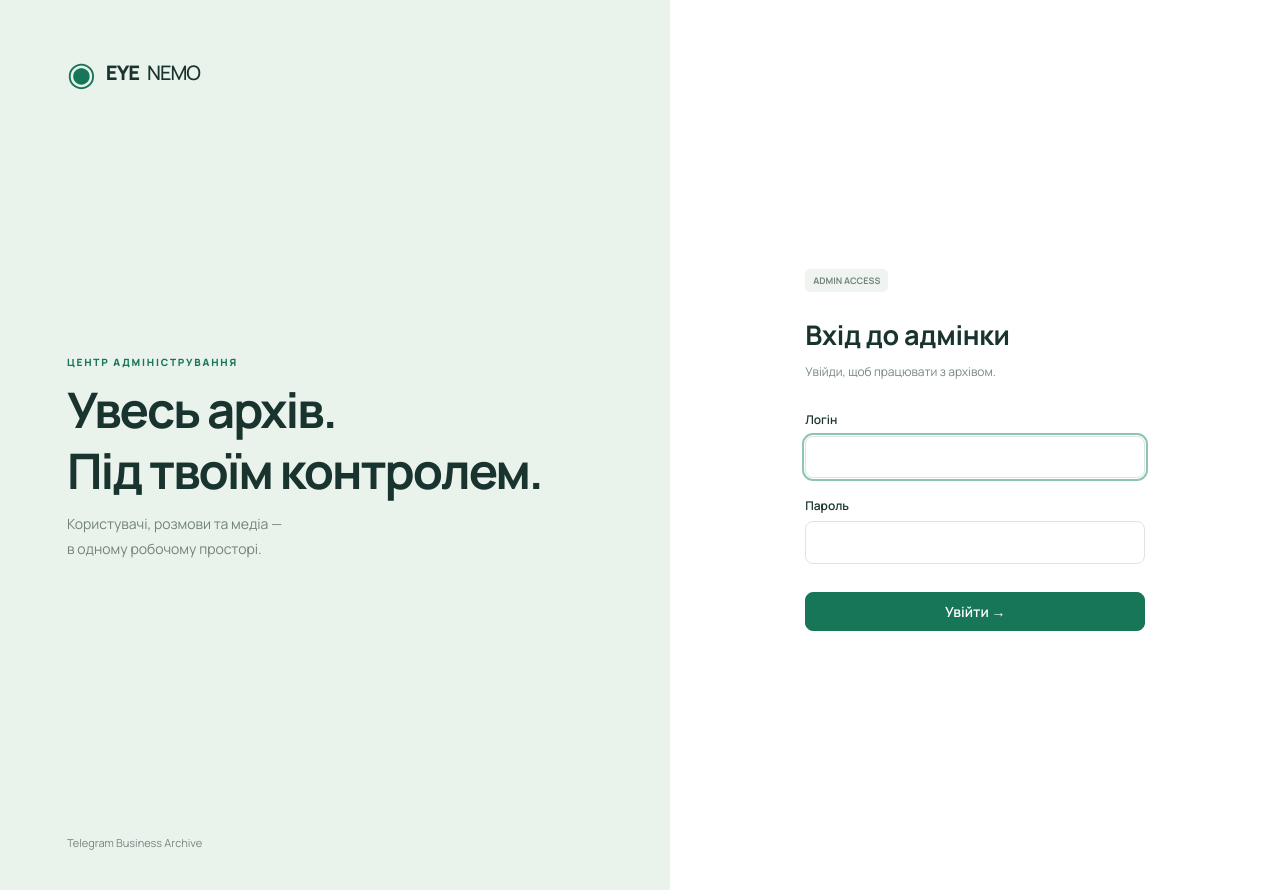
Scenario: administration browser flows › signs in and stores only a session token
Type "admin" into the field labelled "Логін" at (975, 457), box [805, 436, 1145, 478]
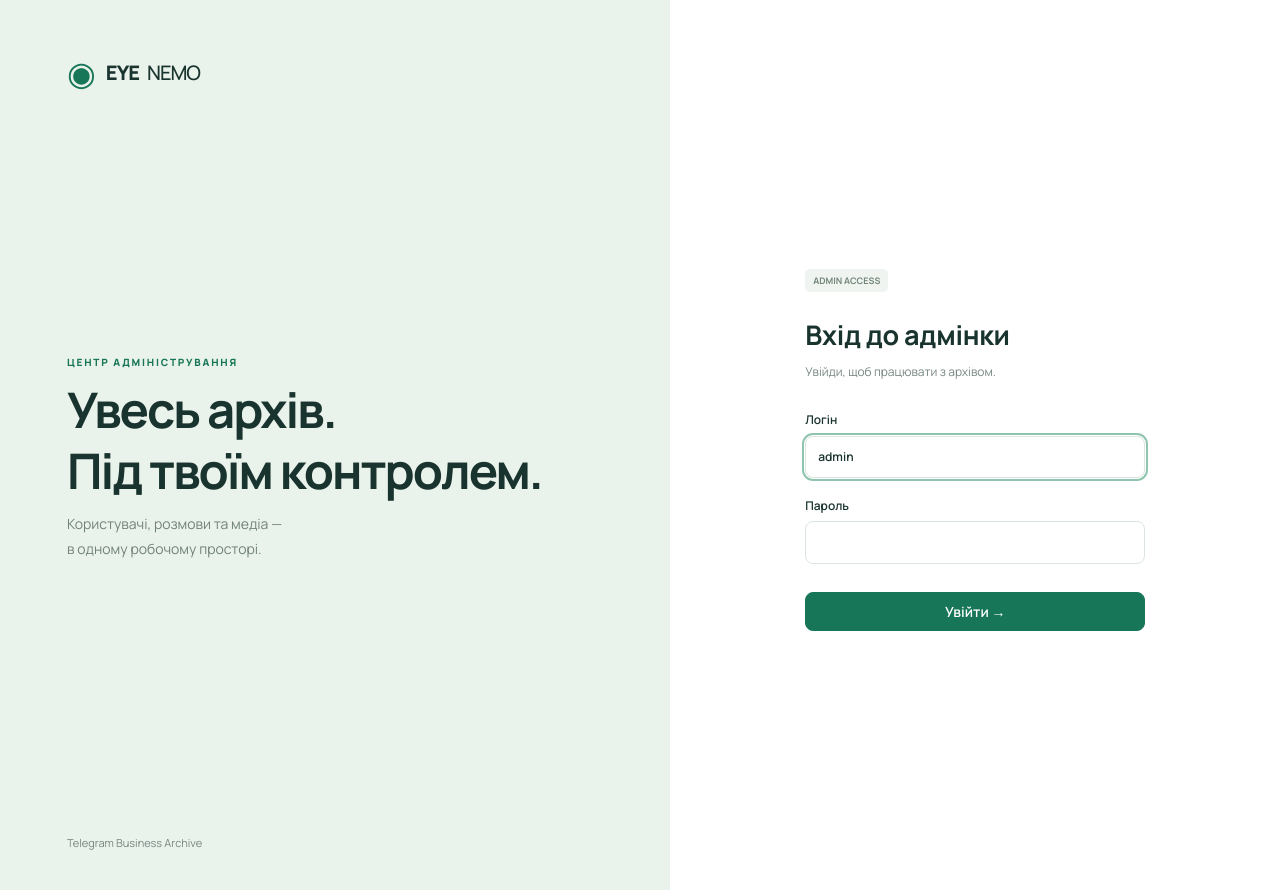
Type "my-private-password" into the password field labelled "Пароль" at (975, 543), box [805, 521, 1145, 564]
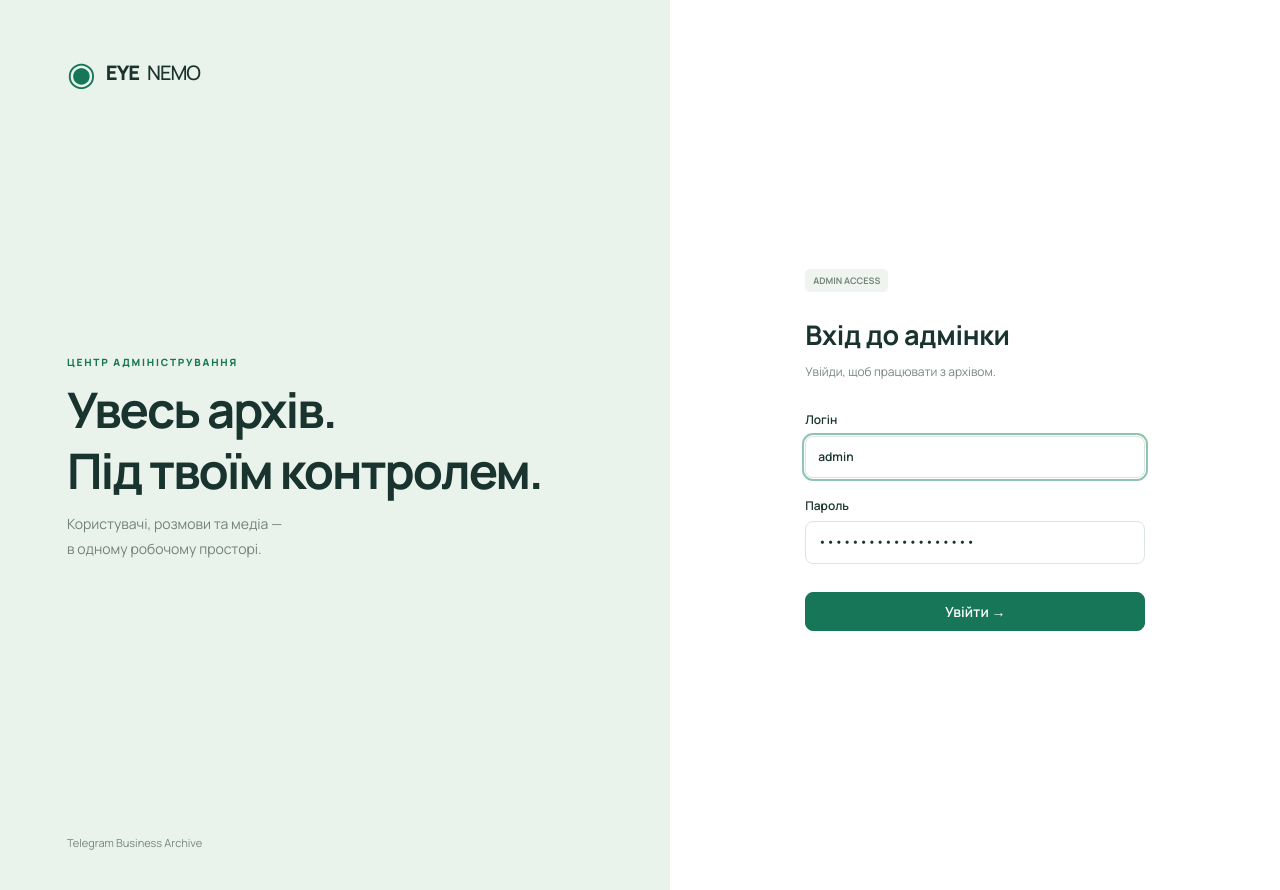
Click the button "Увійти →" at (975, 611), box [805, 592, 1145, 631]
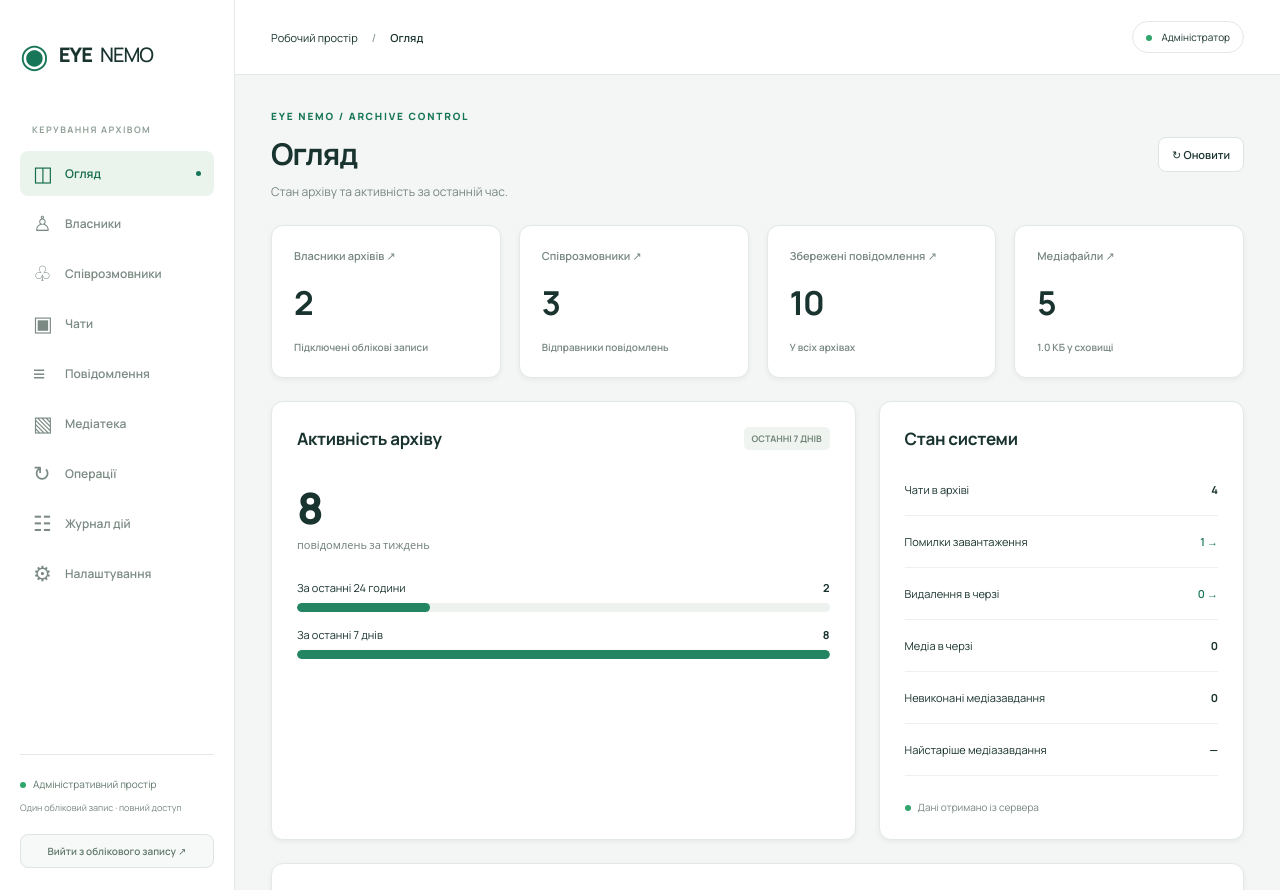
Now the heading "Активність архіву" is shown, box [297, 427, 442, 450]
